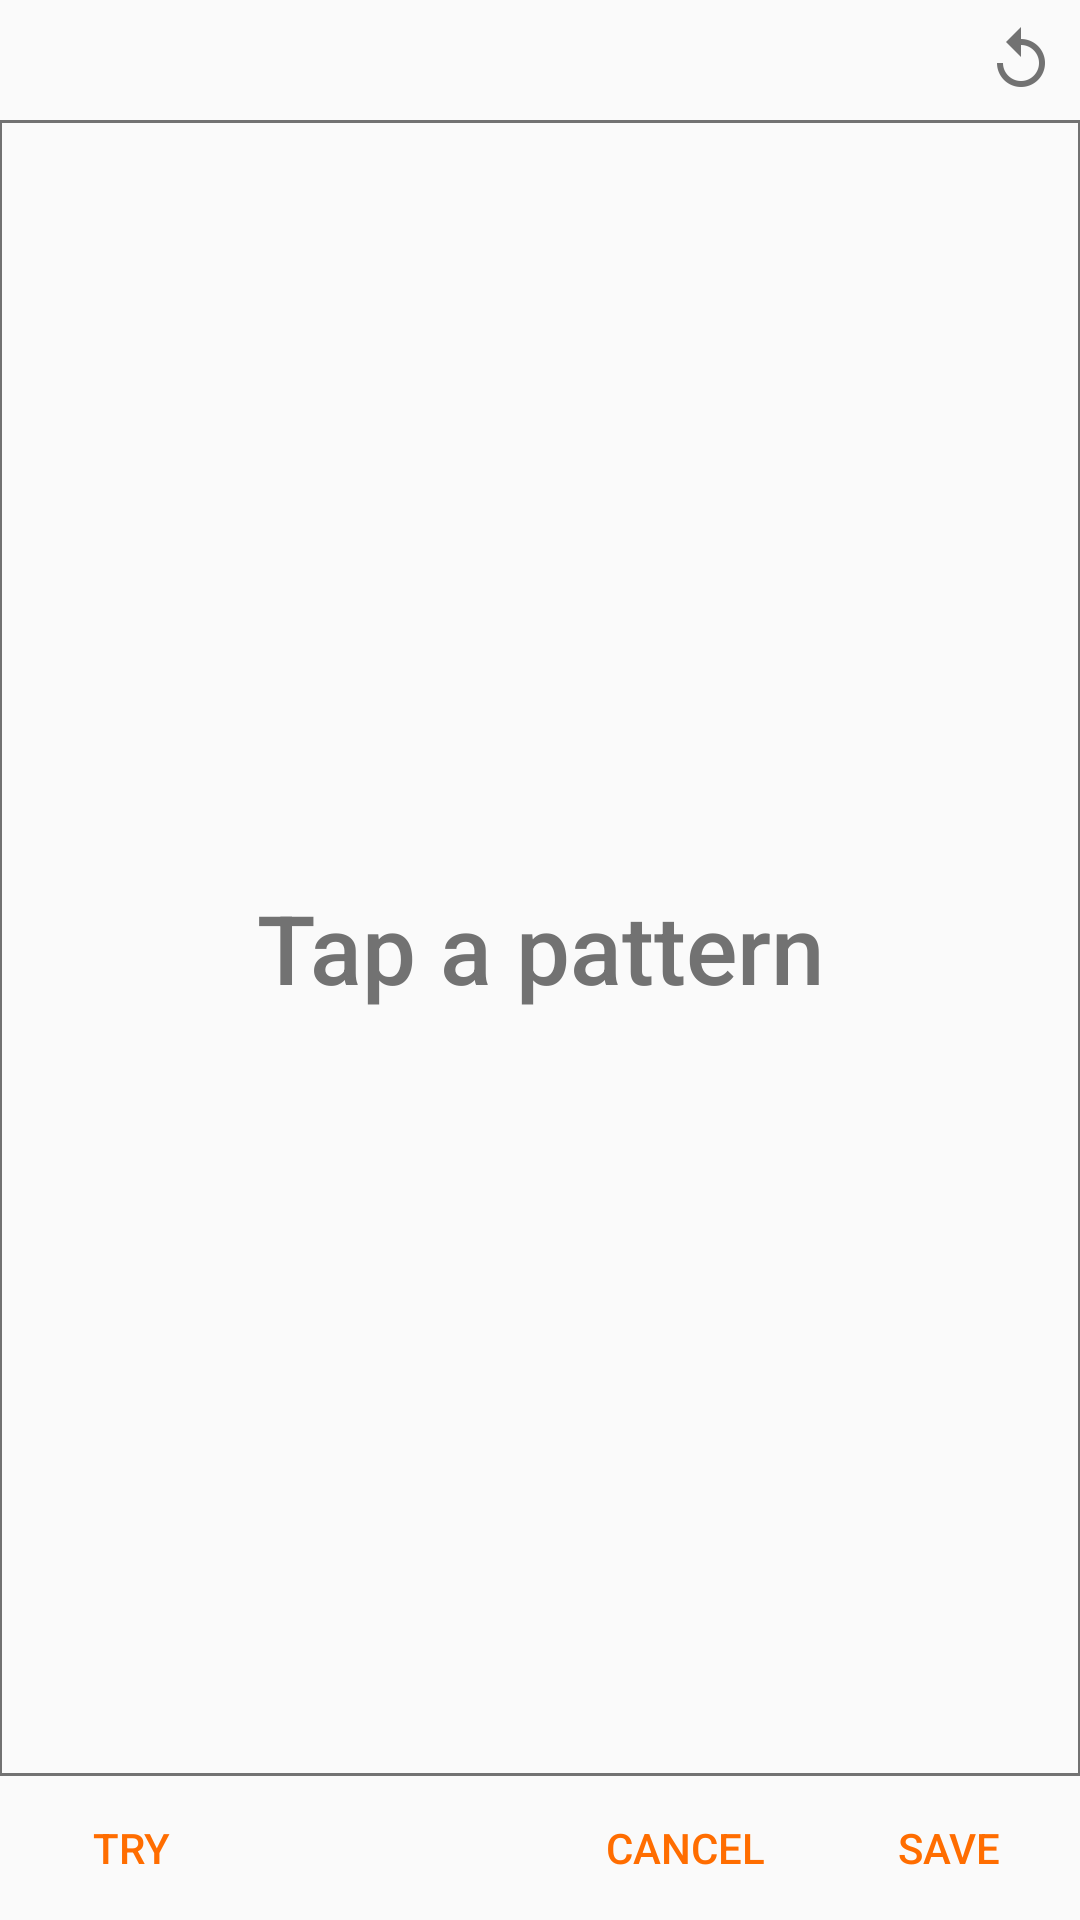

Where icons sit on this 1080 × 1920 app screen, as (x1, y1, x2, y2):
revert: (997, 27, 1045, 87)
